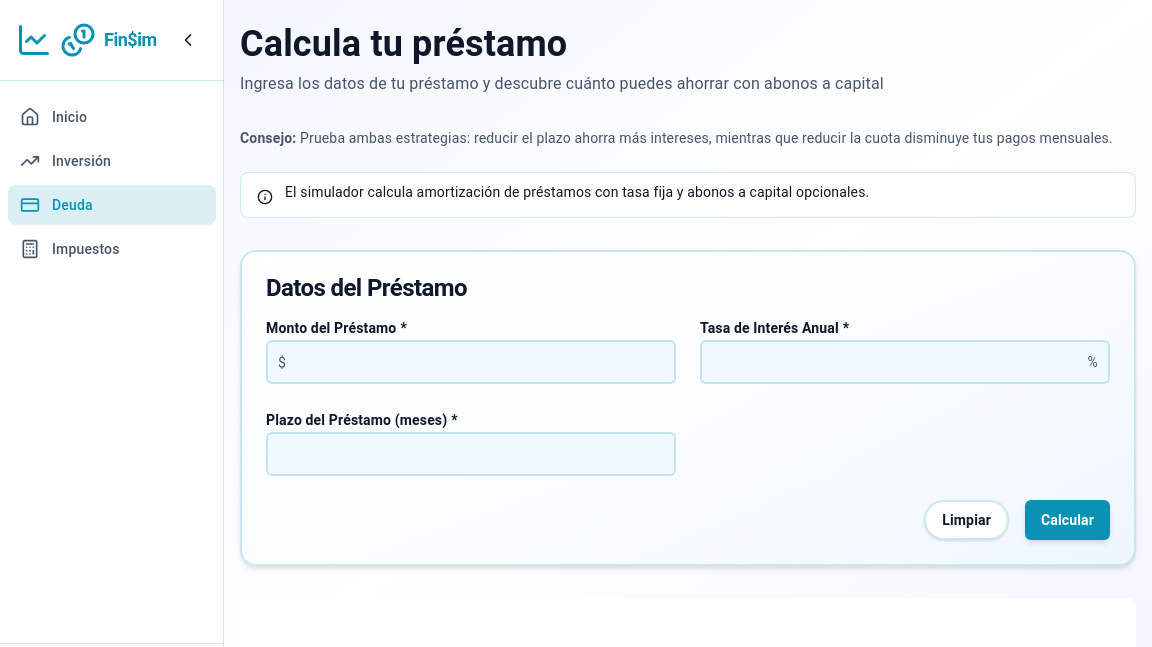
Debt Flow Integration › uses Abono a capital terminology in prepayment section
Type "200000" into the number field labelled "Monto del Préstamo*". click: (471,362)
box: 266,340 -> 676,384
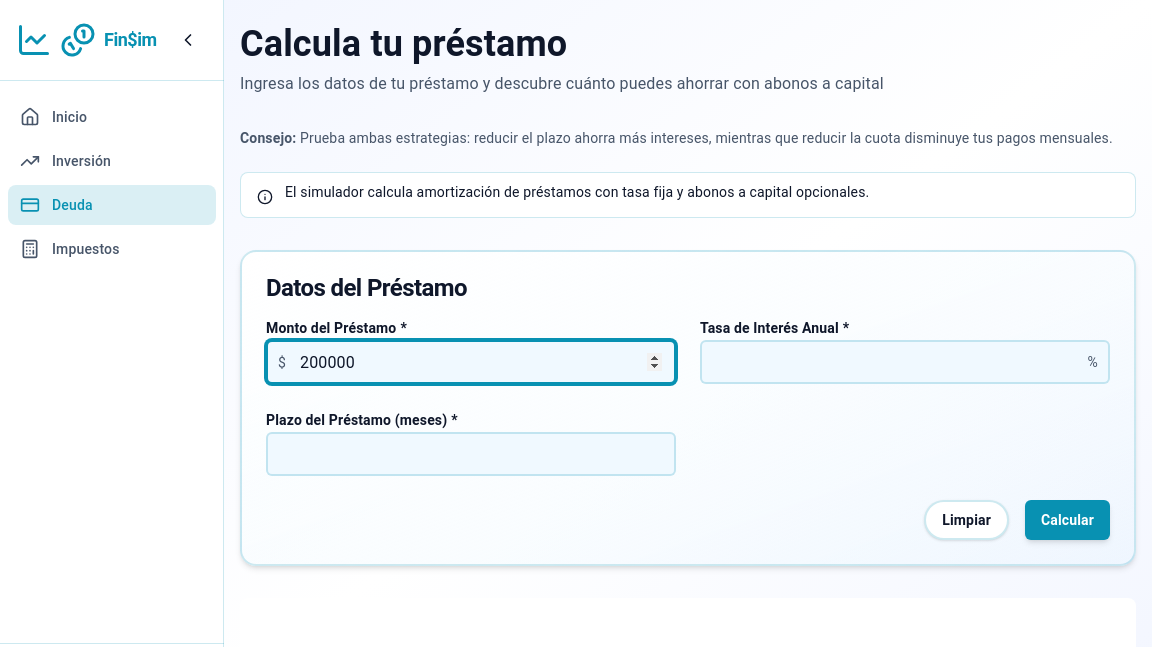
Type "5" into the number field labelled "Tasa de Interés Anual*". click: (905,362)
box: 700,340 -> 1110,384
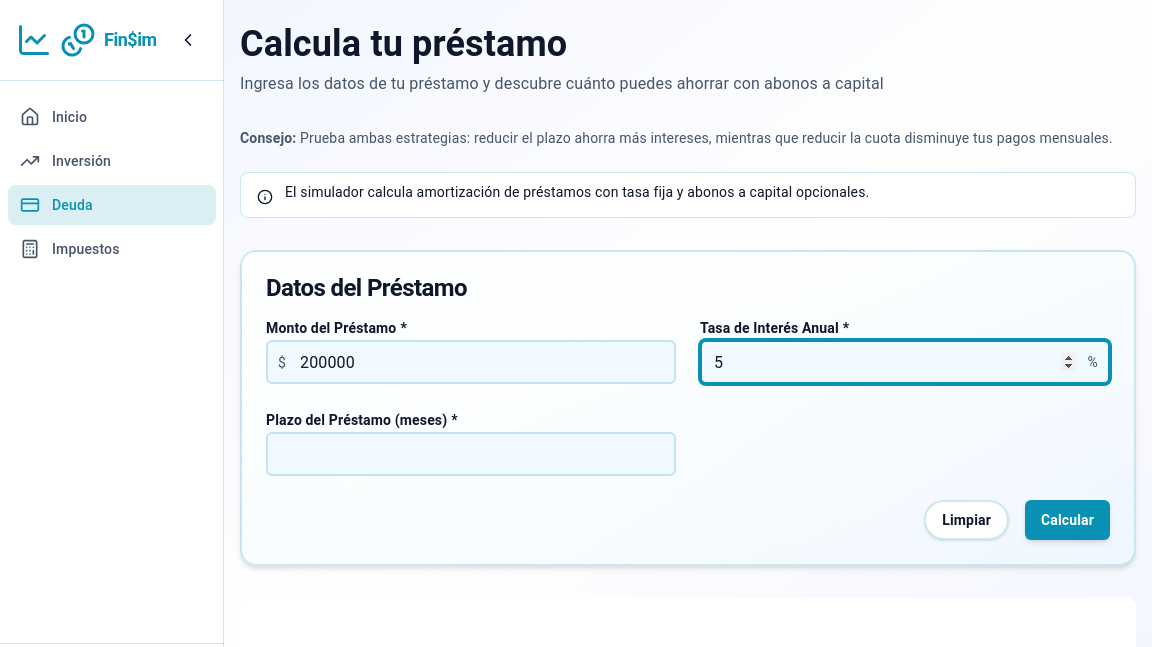
Type "360" into the number field labelled "Plazo del Préstamo (meses)*". click: (471,454)
box: 266,432 -> 676,476
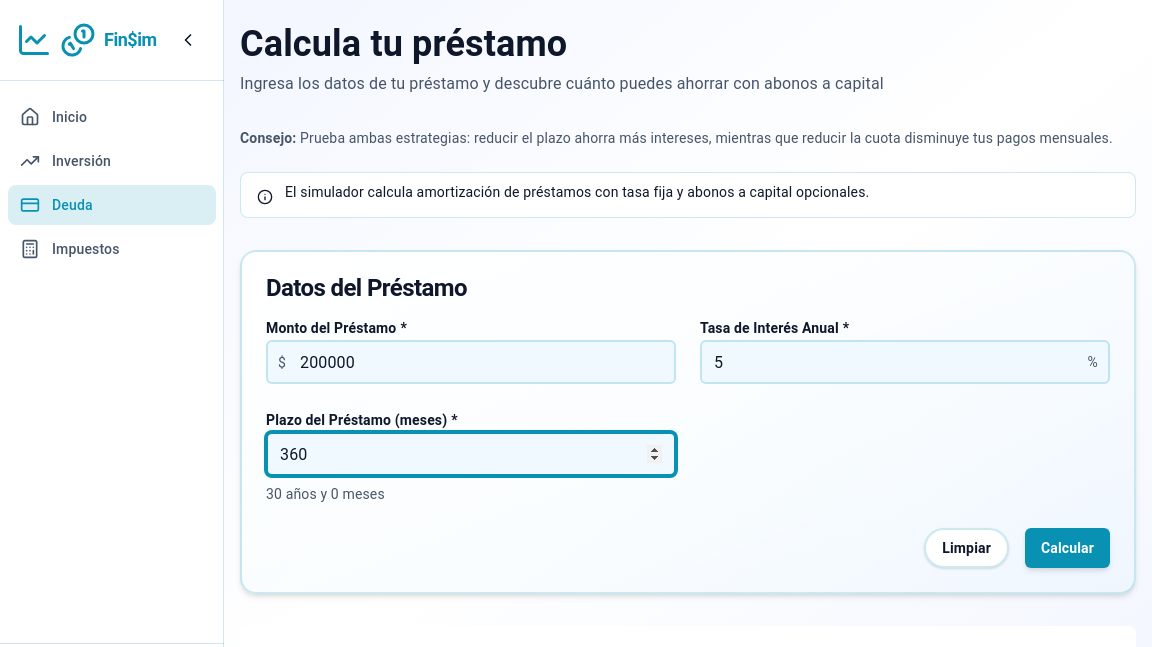
Click the button "Calcular". click: (1067,548)
box: 1025,528 -> 1110,568
(page scrolled)
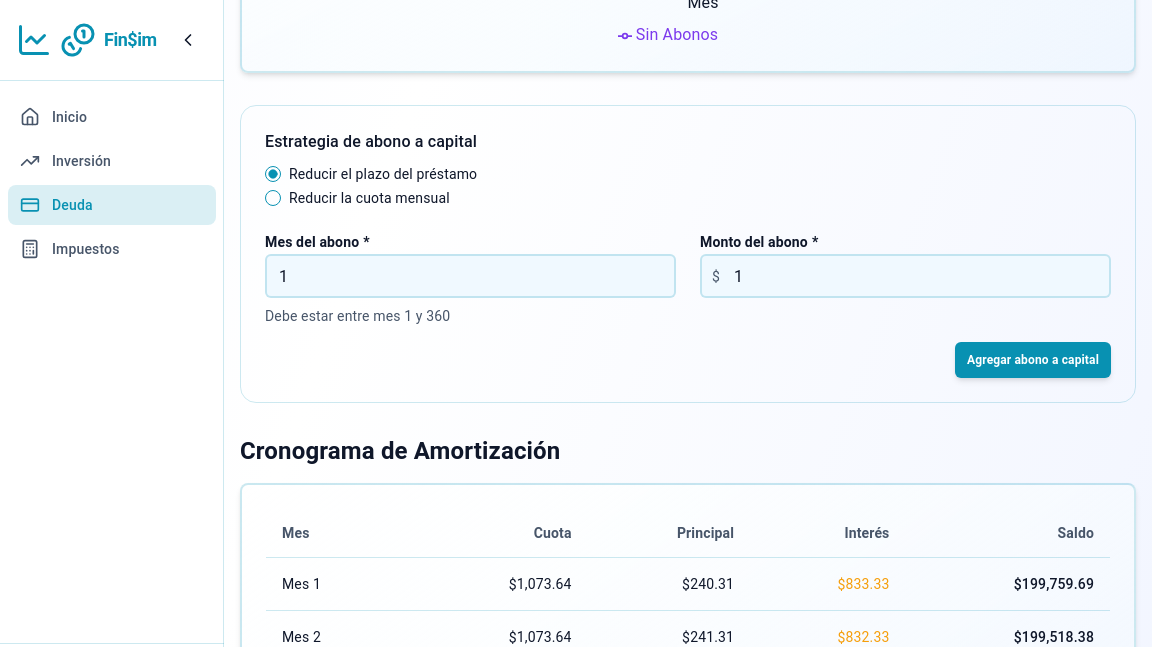
Check: the button "Agregar abono a capital" is shown, box 955,342 -> 1111,378
